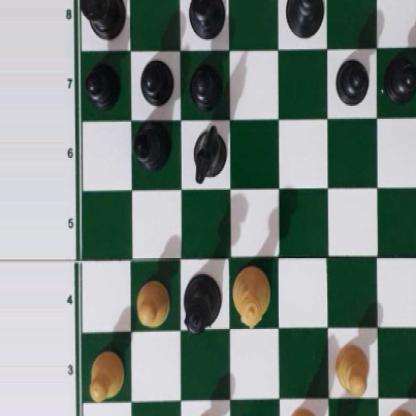black-bishop: (130, 122, 170, 171), (187, 0, 226, 36)
black-king: (283, 0, 326, 36)
black-knight: (191, 123, 225, 180)
black-pawn: (335, 52, 369, 103), (139, 55, 172, 106), (85, 59, 120, 104), (189, 58, 221, 107), (384, 54, 416, 101)
black-queen: (182, 273, 223, 338)
black-rook: (76, 0, 126, 39)
white-knight: (286, 406, 321, 416)
white-pawn: (333, 339, 369, 394), (86, 348, 124, 400), (134, 275, 171, 328), (383, 404, 416, 416), (188, 412, 223, 416)
white-queen: (232, 264, 270, 329)
